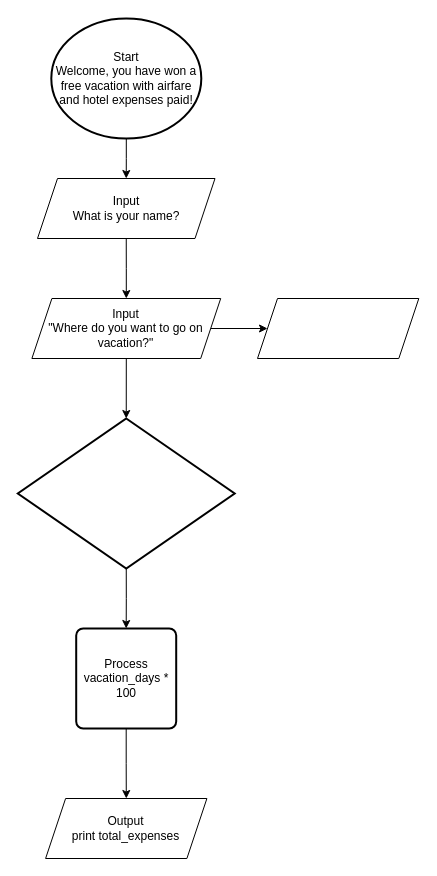
This 437x876 diagram has some shape labels left out. Here are the shapes that lost their labels. From the top down, the centre of each, then its label:
[337,328]: Output Print vacation_location
[125,493]: Decision "How many days will you spend on vacation, 4 or 7 days?
